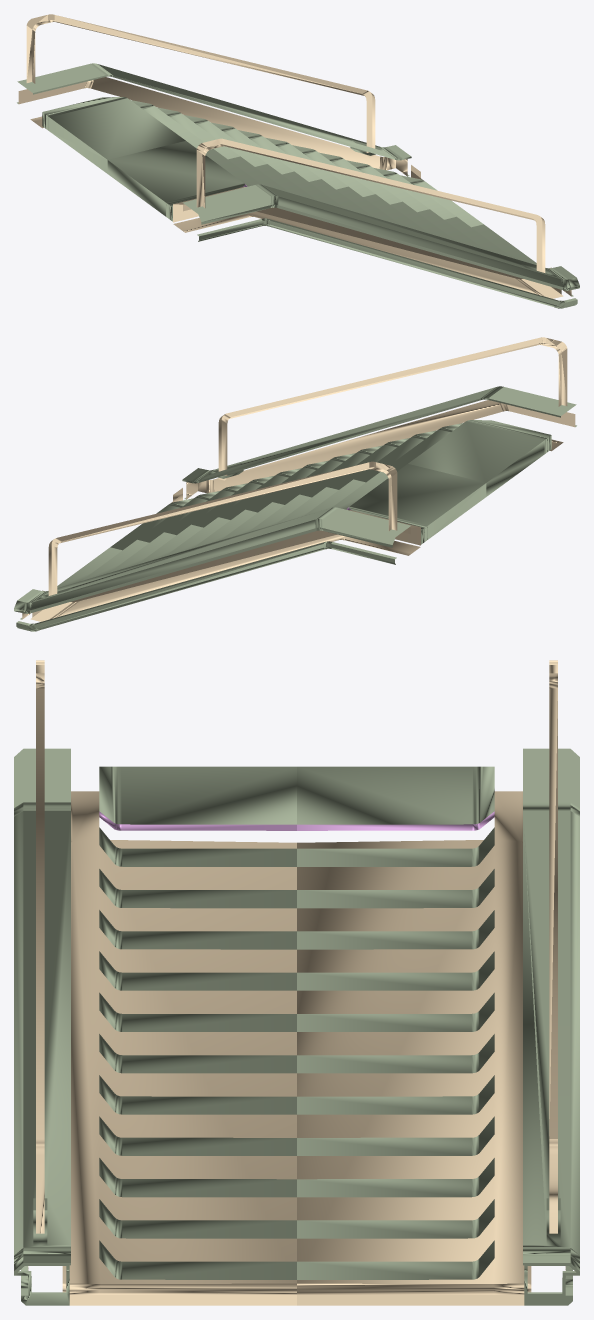
The model's file is Base_08x08x03_bridge_stairs.glb.
3 renders of one model, top to bottom at view 1: azimuth 30°, elevation 25°; view 2: azimuth 150°, elevation 25°; view 3: azimuth 270°, elevation 25°, orthographic. The views are drawn at different scales.
Bounding box in the file's own units: 7 × 4.37 × 6.
